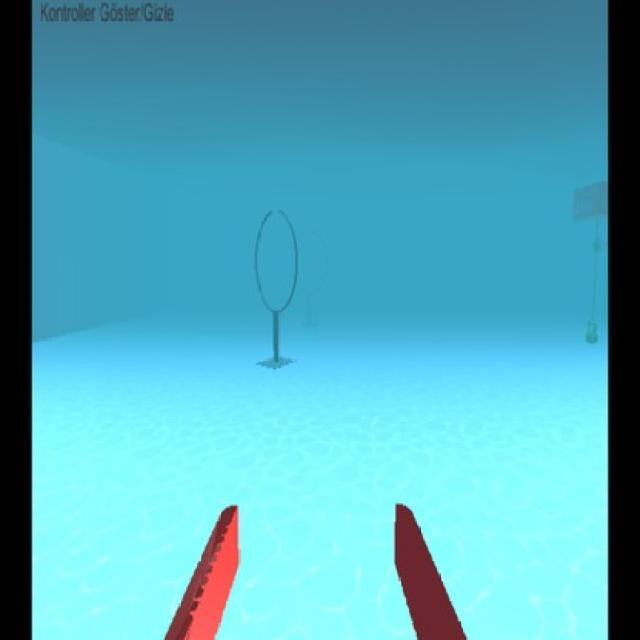Circle: (251, 206, 300, 318)
